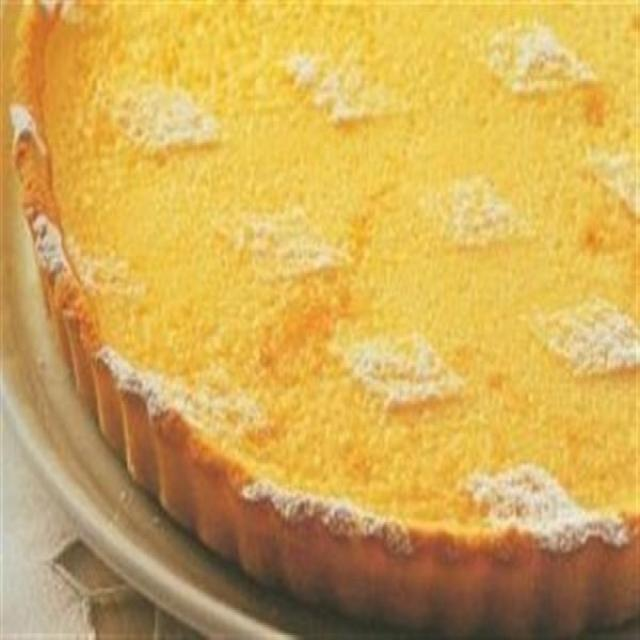炸货点心: (17, 12, 629, 608)
蛋糕甜品: (17, 12, 629, 608)
